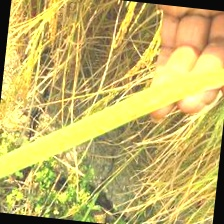Bacterial_Leaf_Blight: (177, 84, 189, 94), (69, 124, 77, 132), (56, 140, 66, 146), (129, 113, 139, 118)
